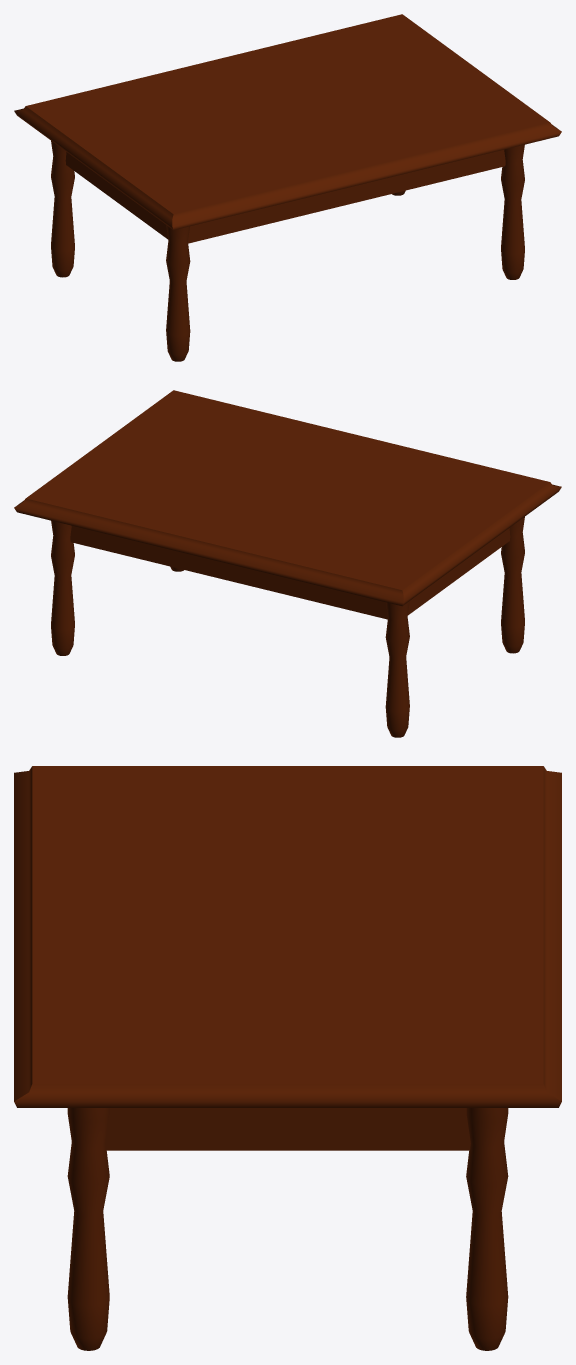
The model's file is table.fbx.
The picture shows the model from 3 angles, top to bottom: view 1: azimuth 30°, elevation 25°; view 2: azimuth 150°, elevation 25°; view 3: azimuth 270°, elevation 25°; orthographic projection. The views are drawn at different scales.
Parts seen in each view (by area): view 1: pCube1, pCube5, pCylinder2, pCylinder1, pCylinder3, pCube3; view 2: pCube1, pCube4, pCylinder3, pCylinder4, pCylinder2, pCube3; view 3: pCube1, pCube2, pCylinder1, pCylinder4.
Part boxes in pixels (x1,y1,x2,y2): pCube1: (14, 14, 561, 230); pCube5: (188, 150, 505, 243); pCylinder2: (166, 225, 190, 361); pCylinder1: (501, 144, 524, 279); pCylinder3: (51, 141, 74, 277); pCube3: (65, 152, 168, 239); pCube1: (14, 390, 561, 606); pCube4: (70, 526, 387, 619); pCylinder3: (385, 601, 409, 737); pCylinder4: (51, 520, 74, 655); pCylinder2: (501, 517, 524, 653); pCube3: (407, 528, 510, 615); pCube1: (14, 766, 561, 1107); pCube2: (105, 1108, 470, 1150); pCylinder1: (67, 1108, 109, 1350); pCylinder4: (466, 1108, 508, 1350).
Bounding box in the file's own units: 2.1 × 0.8463 × 1.48.
